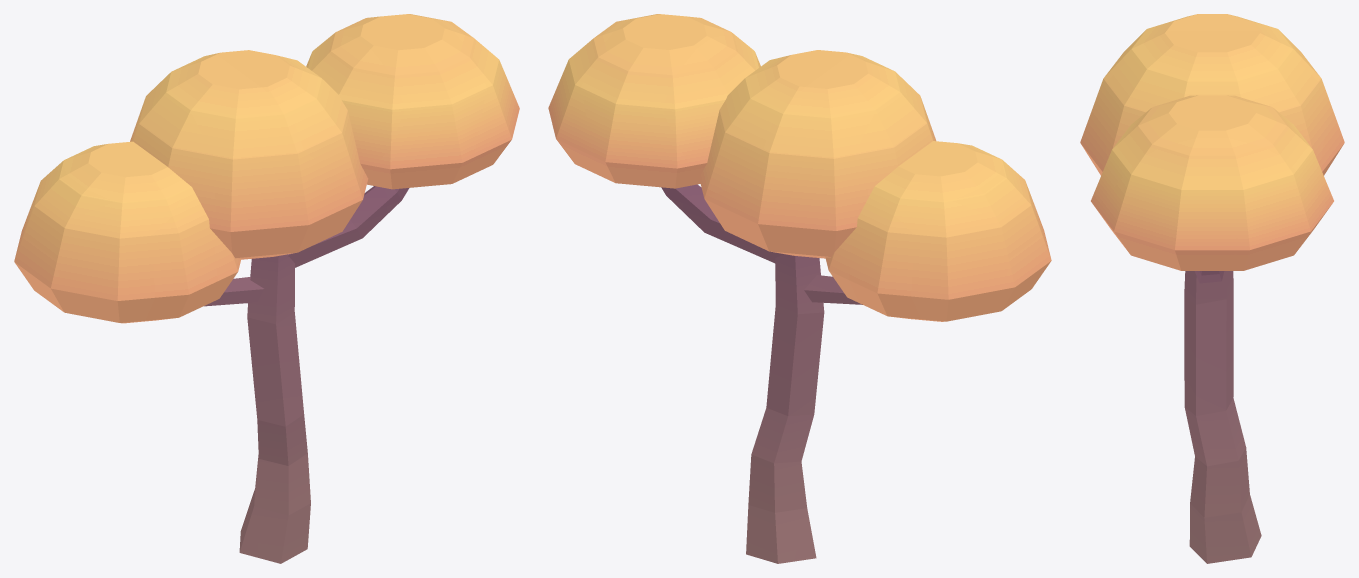
Rendered from small_tree_y.glb.
The picture shows the model from 3 angles, left to right: view 1: azimuth 30°, elevation 25°; view 2: azimuth 150°, elevation 25°; view 3: azimuth 270°, elevation 25°; orthographic projection. The views are drawn at different scales.
Parts seen in each view (by area): view 1: small tree.002; view 2: small tree.002; view 3: small tree.002.
Boxes of the visible parts, <box> form: small tree.002: <box>14,14,519,563</box>; small tree.002: <box>548,14,1051,563</box>; small tree.002: <box>1080,14,1344,563</box>.
Size of the model in its own units: 2.91 by 2.92 by 1.4.
Materials: 1 (1 with a texture image).
